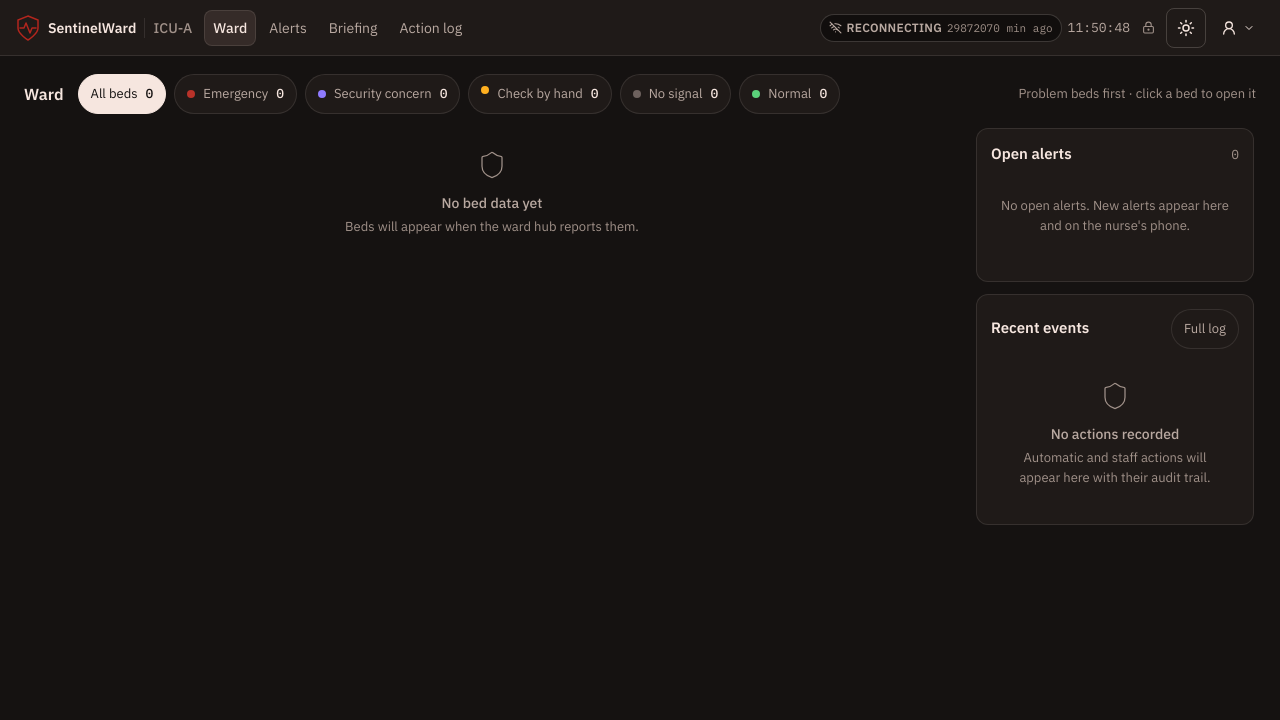
logout clears the session, reaches login and shows Signed out
The image size is (1280, 720).
Press Enter in the button named "Account", box [1212,10,1264,46]
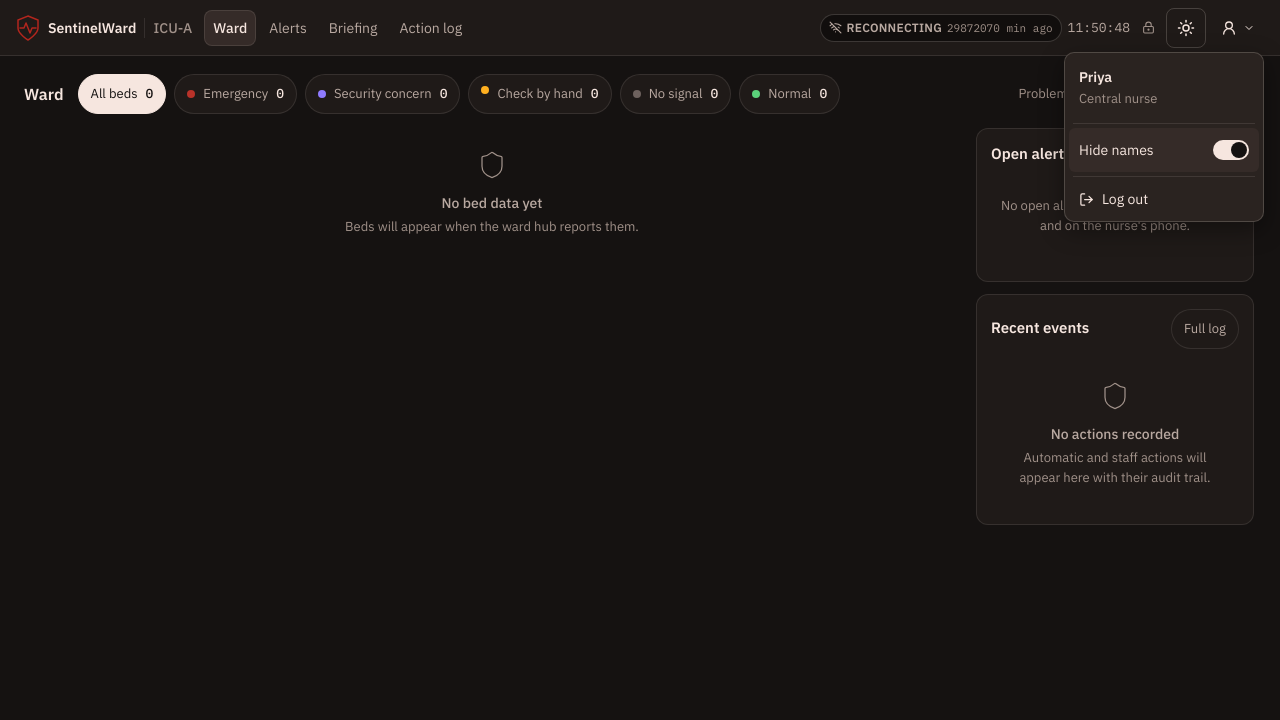
Click the menu item "Log out" at (1114, 199), box [1079,190,1148,208]
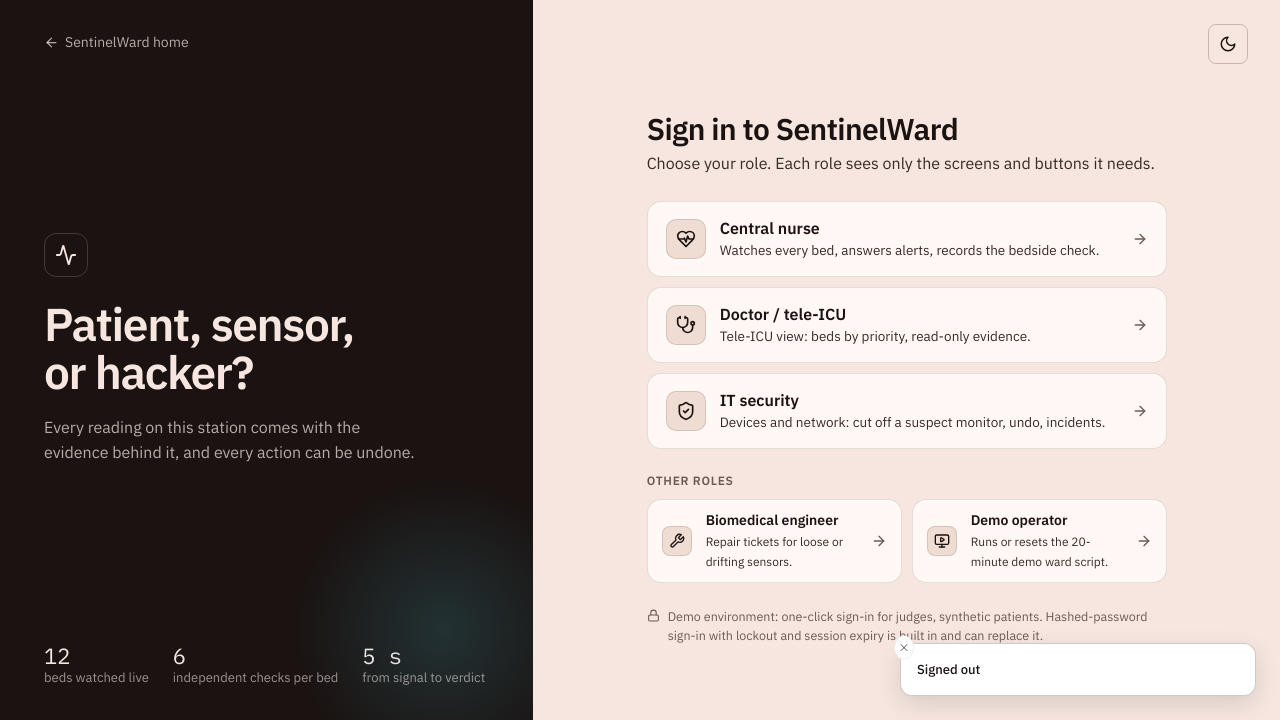
Expected: the text "Signed out" is shown, [917,660,980,679]
Expected: the heading "Sign in to SentinelWard" is shown, [647,109,958,148]
